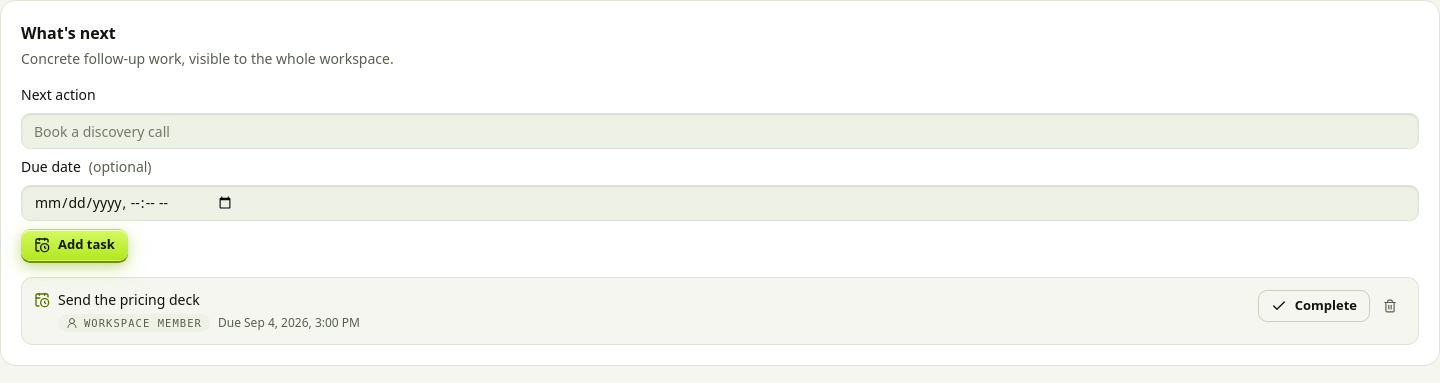
Scenario: a task completed here stays on the list, marked complete, with a way back
The width and height of the screenshot is (1440, 383).
Click the button with aria-label "mark send the pricing deck as complete": (1314, 306) 1258,290 -> 1370,322
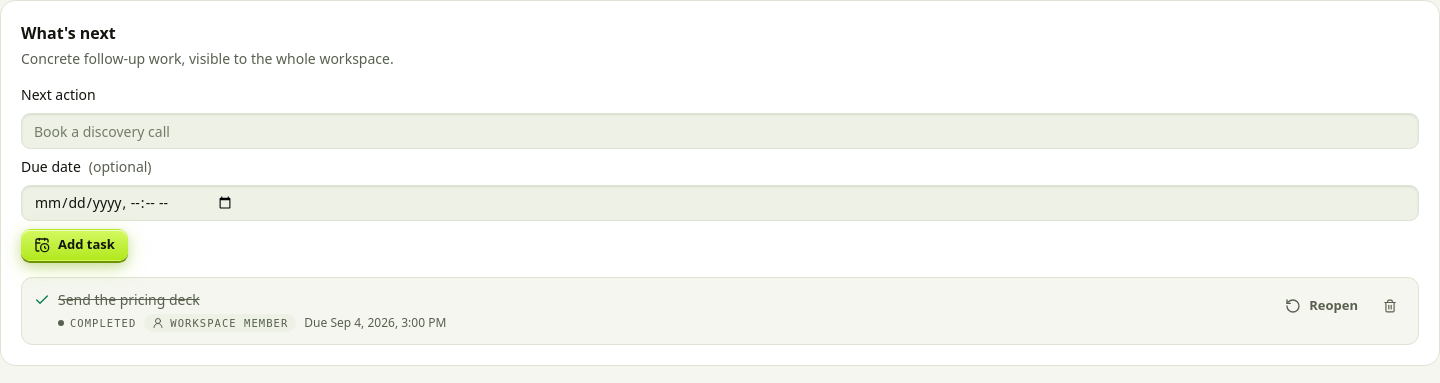
Expected: the text "Completed" is shown, 70,316 -> 136,330
Click the button with aria-label "reopen send the pricing deck": (1322, 306) 1273,290 -> 1370,322
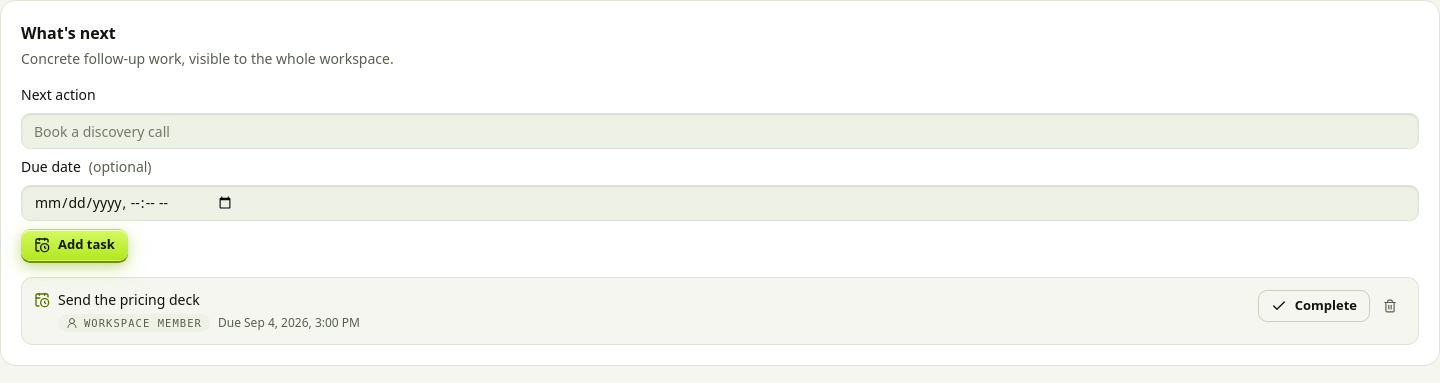
Expected: the button with aria-label "mark send the pricing deck as complete" is shown, 1258,290 -> 1370,322
Expected: the text "Completed" is gone
